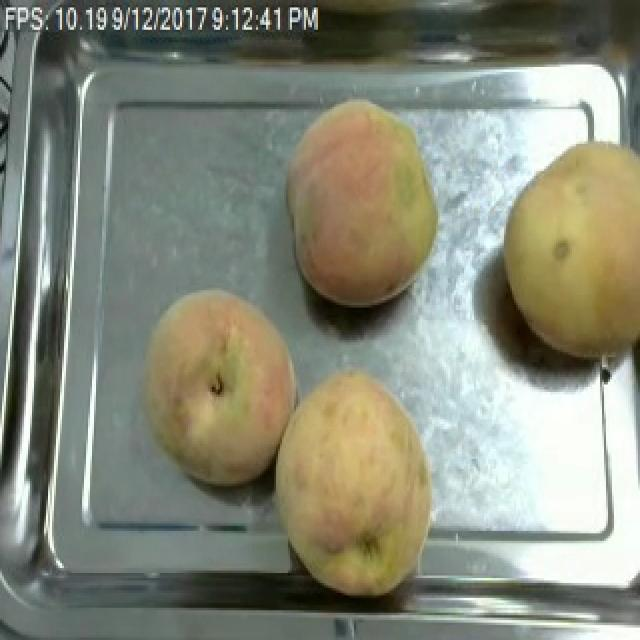Fruit: (264, 357, 446, 608), (130, 280, 312, 494), (276, 89, 448, 315), (490, 122, 640, 370)
